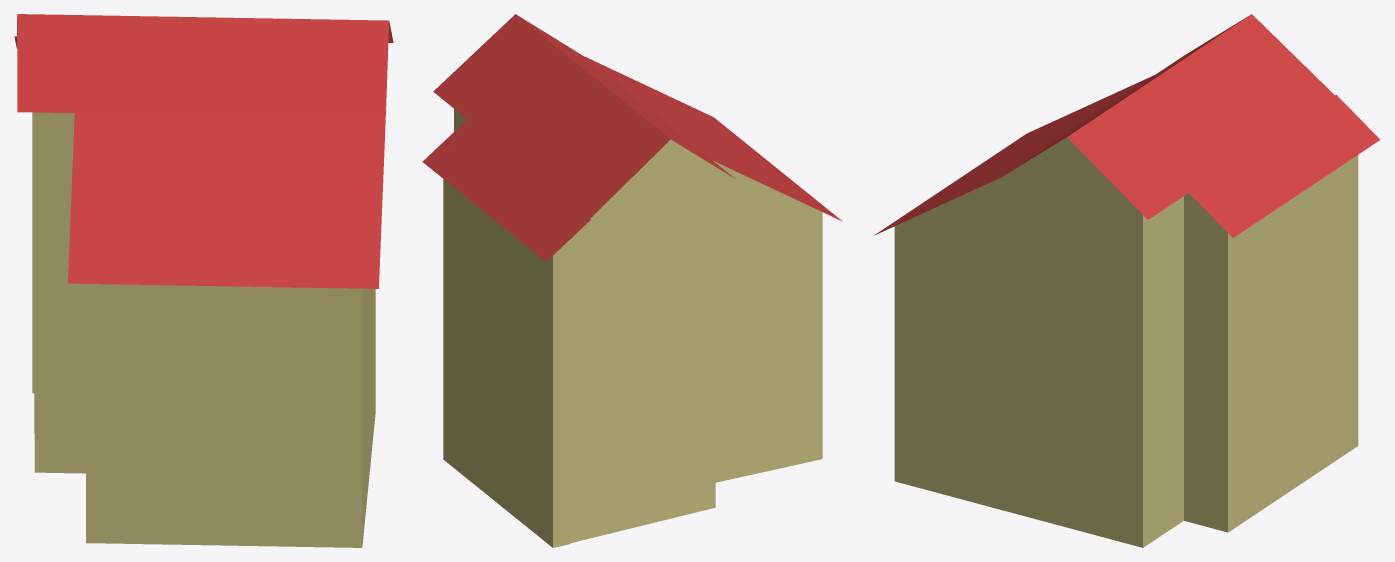
The picture shows the model from 3 angles, left to right: view 1: azimuth 30°, elevation 25°; view 2: azimuth 150°, elevation 25°; view 3: azimuth 270°, elevation 25°; orthographic projection. The views are drawn at different scales.
Size of the model in its own units: 13.02 by 15.81 by 13.68.
